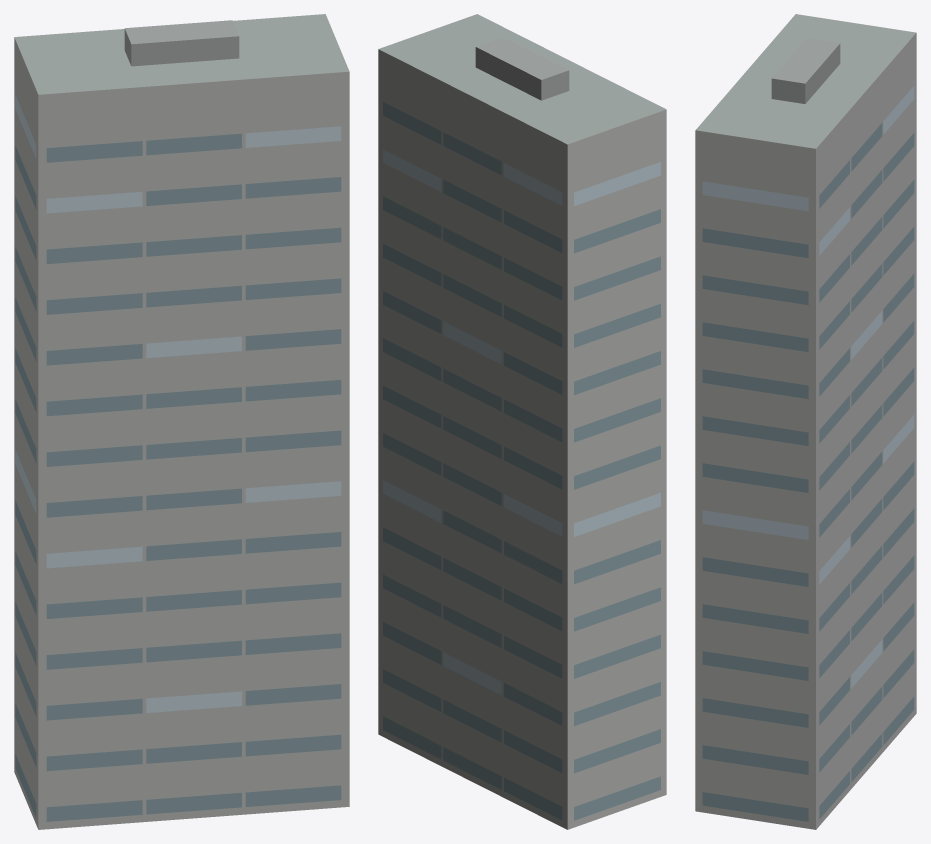
The model's file is fallback-jamsil-els-133.glb.
3 renders of one model, left to right at view 1: azimuth 30°, elevation 25°; view 2: azimuth 150°, elevation 25°; view 3: azimuth 270°, elevation 25°, orthographic. The views are drawn at different scales.
Visible parts, largest first — view 1: fallback-jamsil-els-133; view 2: fallback-jamsil-els-133; view 3: fallback-jamsil-els-133.
Part boxes in pixels (x1,y1,x2,y2): fallback-jamsil-els-133: (14,14,349,829); fallback-jamsil-els-133: (378,14,666,829); fallback-jamsil-els-133: (695,14,916,829).
Bounding box in the file's own units: 33.8 × 82 × 23.41.
